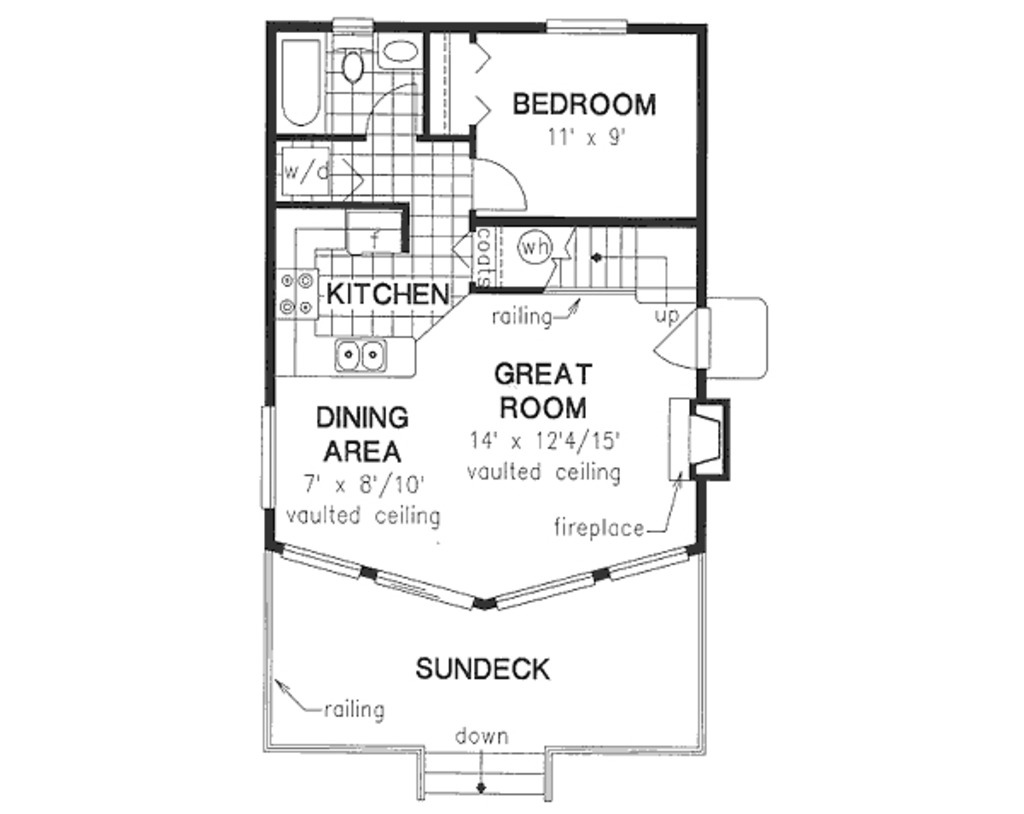door: (472, 152, 531, 218), (653, 314, 703, 370)
large_sink: (332, 34, 373, 87)
small_sink: (370, 31, 427, 73)
stairs: (549, 222, 700, 314), (416, 745, 546, 801)
tub: (272, 29, 328, 130)
twin_sink: (330, 336, 388, 373)
windows: (377, 569, 474, 614), (278, 539, 367, 585), (493, 574, 598, 610), (609, 548, 689, 582), (260, 402, 280, 513), (541, 15, 631, 38)
